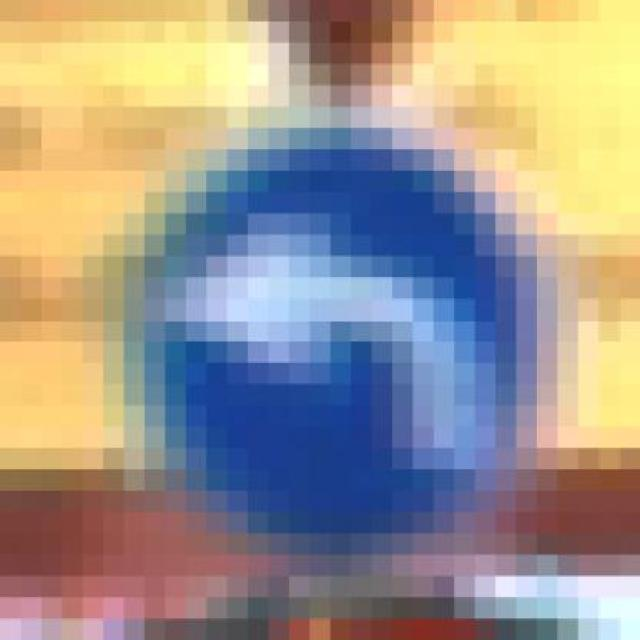Turn left ahead: (124, 129, 578, 576)
